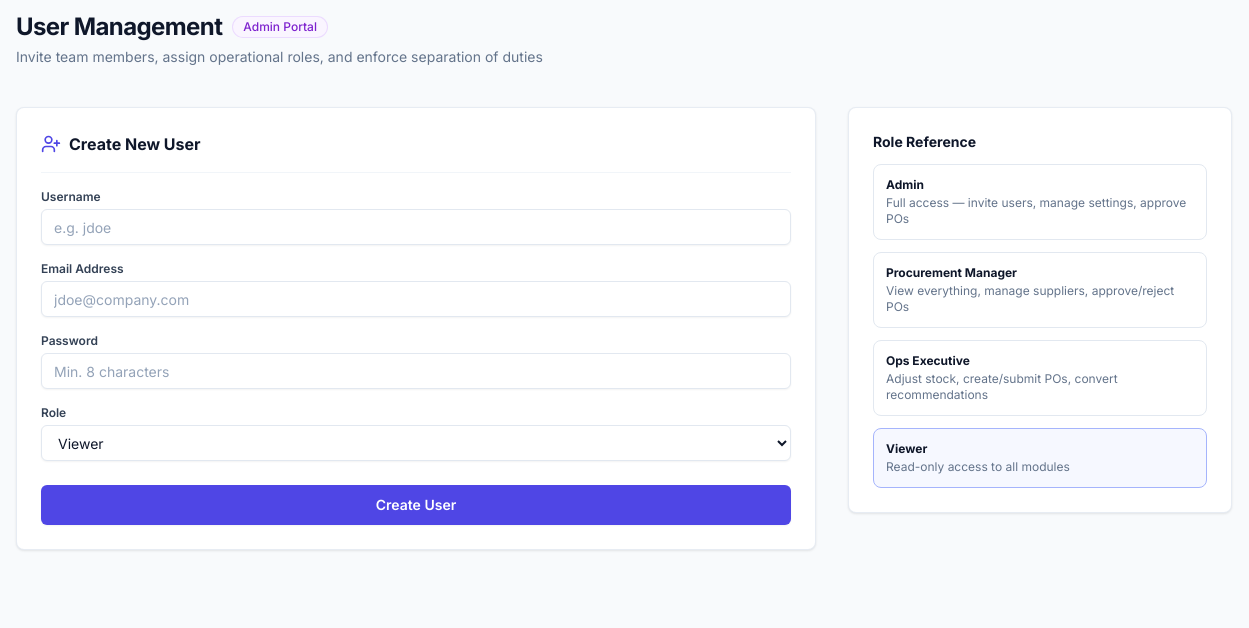
AdminUserManagementPage › Form Validation › should show error for username shorter than 3 chars
The image size is (1249, 628).
In the field labelled "Username": (416, 227) 41,209 -> 791,245, type "ab"
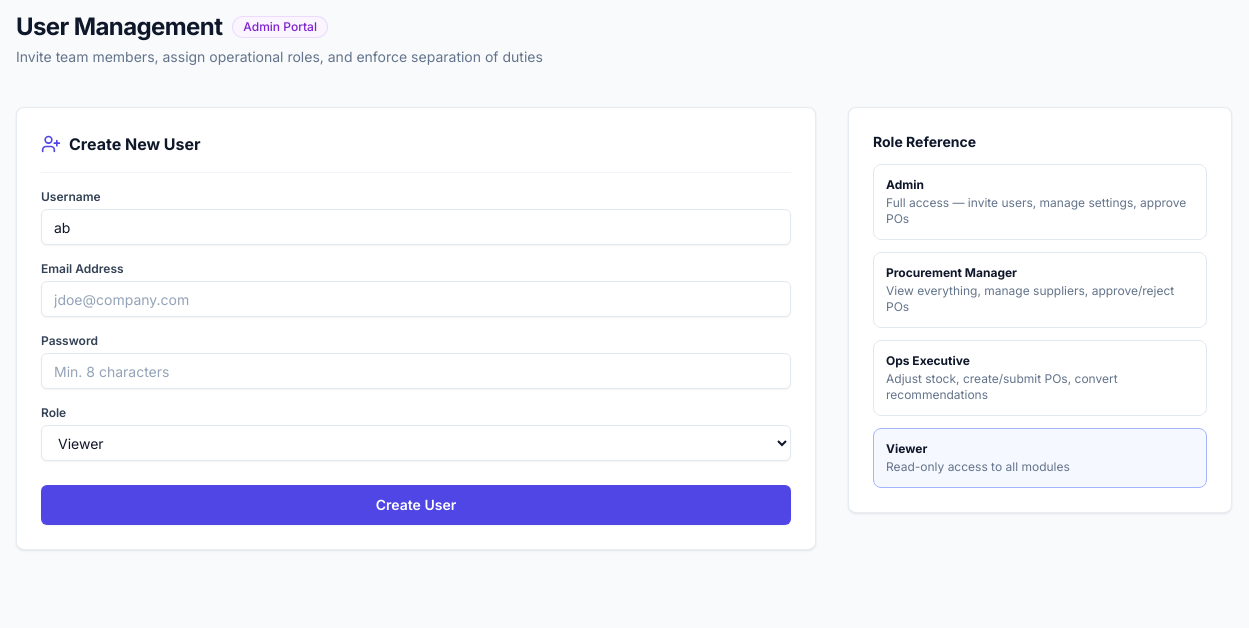
Click the button "Create User": (416, 505) 41,485 -> 791,525
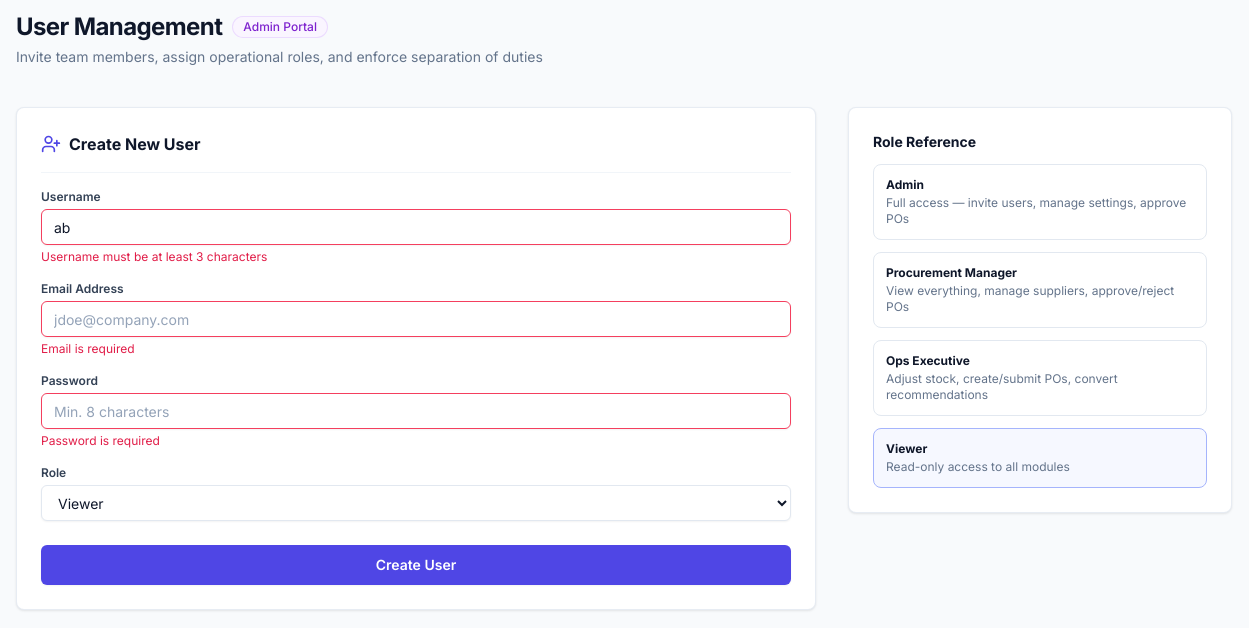
Expected: the text "Username must be at least 3 characters" is shown, 41,249 -> 267,264
